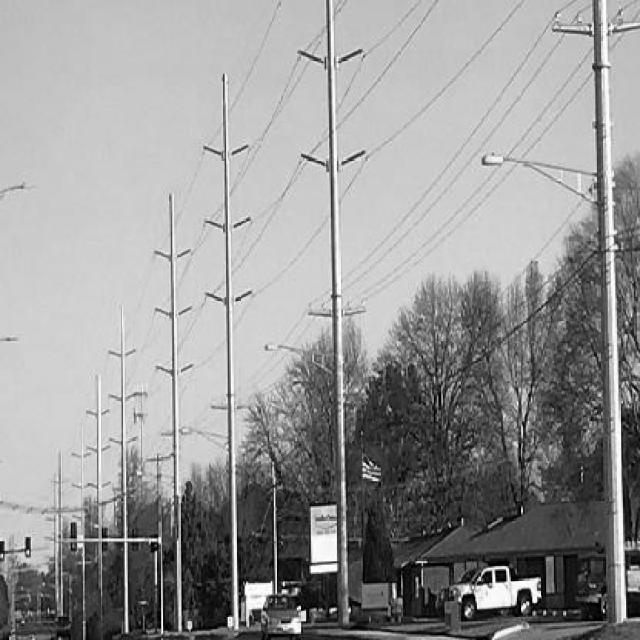Pole: (301, 0, 350, 627), (204, 74, 252, 629), (594, 0, 623, 569), (156, 194, 189, 630), (109, 306, 135, 633)
